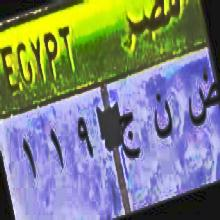1: (20, 133, 39, 197), (48, 123, 66, 190)
9: (76, 110, 96, 173)
daad: (183, 72, 219, 143)
jeem: (113, 101, 141, 175)
noon: (150, 90, 174, 156)
